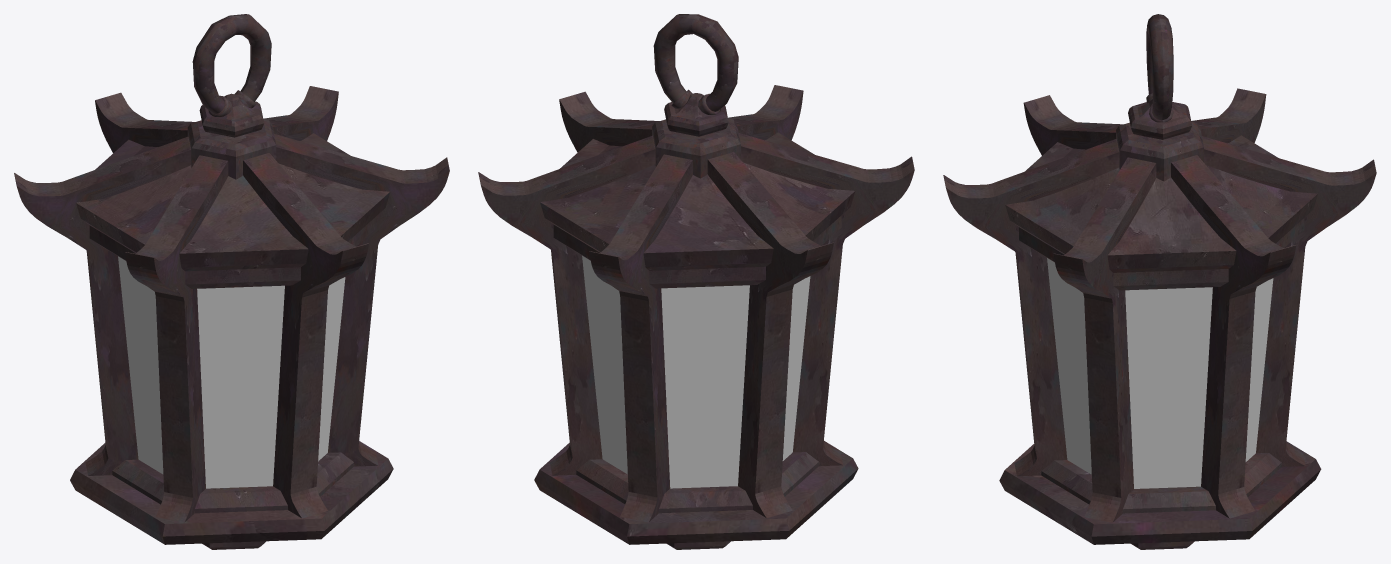
Rendered from Lantern_Cartoon.fbx.
3 views of the same model, side by side, from view 1: azimuth 30°, elevation 25°; view 2: azimuth 150°, elevation 25°; view 3: azimuth 270°, elevation 25° (orthographic).
Visible parts, largest first — view 1: Decoration.003, Decoration, Top_Filler_Lantern, Decoration.001, Glass.006, Base.001, Under_Ring, Glass.005, Bot_Lantern_Glass_Support, Top_Lantern, Glass.001; view 2: Decoration.001, Top_Filler_Lantern, Decoration.003, Decoration, Glass.004, Base.001, Under_Ring, Glass.003, Bot_Lantern_Glass_Support, Top_Lantern, Glass.005; view 3: Decoration, Decoration.001, Top_Filler_Lantern, Decoration.003, Glass.002, Base.001, Glass.001, Bot_Lantern_Glass_Support, Under_Ring, Top_Lantern, Glass.003.
Part boxes in pixels (x1,y1,x2,y2): Decoration.003: (14, 134, 449, 475); Decoration: (95, 92, 368, 518); Top_Filler_Lantern: (76, 133, 389, 288); Decoration.001: (125, 86, 338, 522); Glass.006: (197, 285, 284, 488); Base.001: (70, 441, 393, 544); Under_Ring: (192, 14, 271, 137); Glass.005: (118, 256, 163, 474); Bot_Lantern_Glass_Support: (112, 452, 353, 513); Top_Lantern: (187, 119, 276, 179); Glass.001: (318, 277, 345, 461); Decoration.001: (478, 133, 914, 475); Top_Filler_Lantern: (540, 132, 855, 288); Decoration.003: (559, 91, 833, 518); Decoration: (589, 85, 803, 522); Glass.004: (661, 285, 749, 488); Base.001: (534, 441, 858, 544); Under_Ring: (653, 14, 738, 136); Glass.003: (582, 255, 627, 474); Bot_Lantern_Glass_Support: (576, 452, 818, 513); Top_Lantern: (652, 118, 740, 178); Glass.005: (782, 276, 810, 460); Decoration: (943, 136, 1376, 476); Decoration.001: (1023, 95, 1296, 518); Top_Filler_Lantern: (1005, 135, 1317, 290); Decoration.003: (1053, 88, 1266, 522); Glass.002: (1125, 287, 1212, 488); Base.001: (999, 441, 1321, 544); Glass.001: (1047, 258, 1091, 474); Bot_Lantern_Glass_Support: (1041, 453, 1281, 513); Under_Ring: (1128, 14, 1191, 139); Top_Lantern: (1116, 121, 1203, 181); Glass.003: (1245, 278, 1273, 461).
Bounding box in the file's own units: 250 × 350 × 268.
7 materials, 6 textured.
